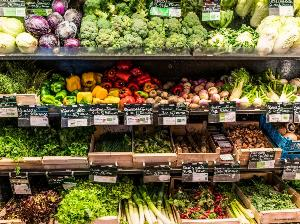bell_pepper: (77, 65, 117, 107), (41, 72, 77, 114), (118, 67, 153, 107)
radish: (177, 189, 224, 224)
